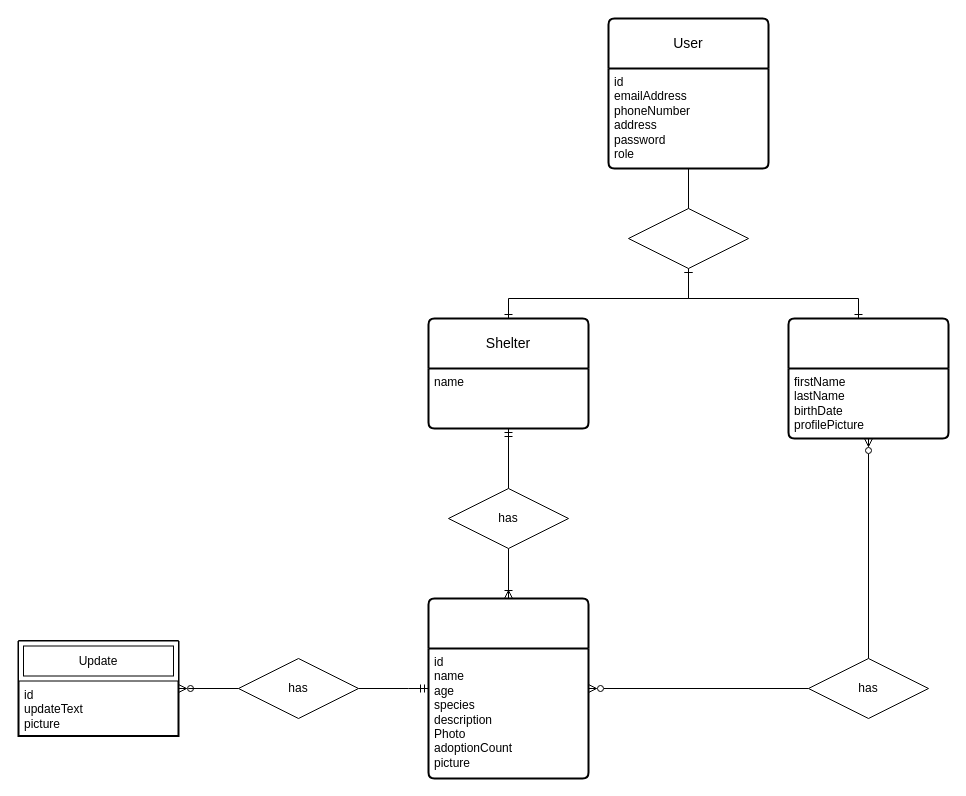
This 966x796 diagram has some shape labels left out. Here are the shapes that lost their labels. From the top down, the box of each, then its label:
(628, 208, 748, 268): is a
(787, 317, 949, 439): Adopter
(427, 597, 589, 779): Turtle
